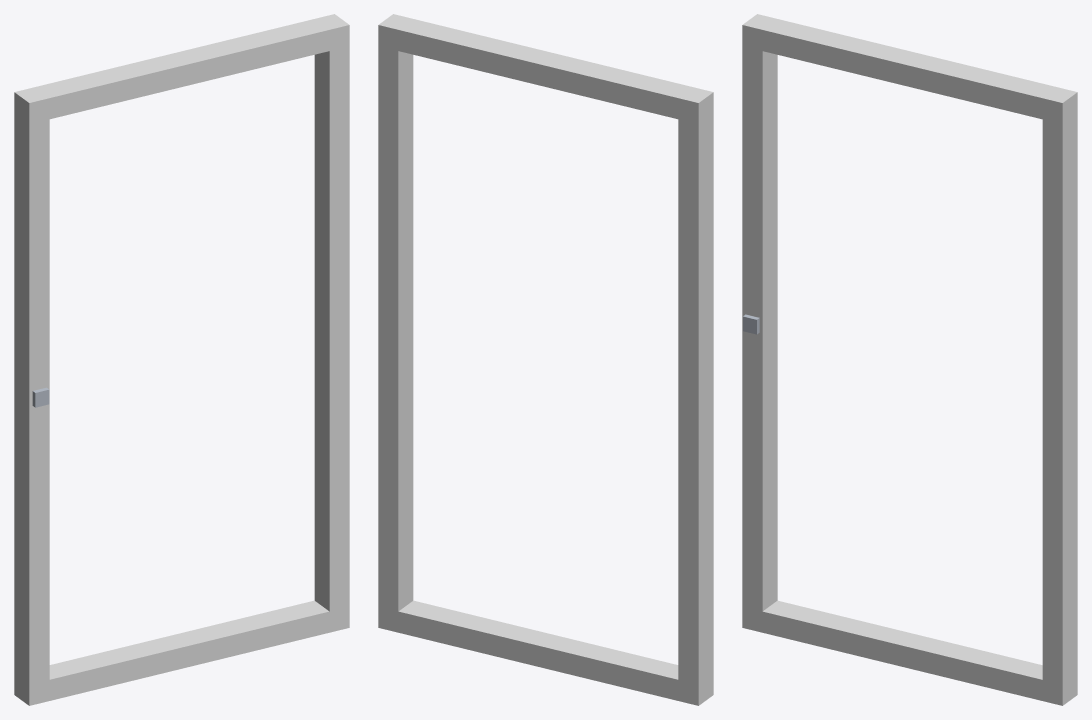
The model's file is Window5_03_2.fbx.
The picture shows the model from 3 angles, left to right: view 1: azimuth 30°, elevation 25°; view 2: azimuth 150°, elevation 25°; view 3: azimuth 330°, elevation 25°; orthographic projection.
Visible parts, largest first — view 1: Window5_03_2; view 2: Window5_03_2; view 3: Window5_03_2.
Boxes of the visible parts, box(x1,y1,x2,y2) form: Window5_03_2: box(14, 14, 349, 705); Window5_03_2: box(378, 14, 713, 705); Window5_03_2: box(742, 14, 1077, 705).
Size of the model in its own units: 63.21 by 114 by 6.08.
